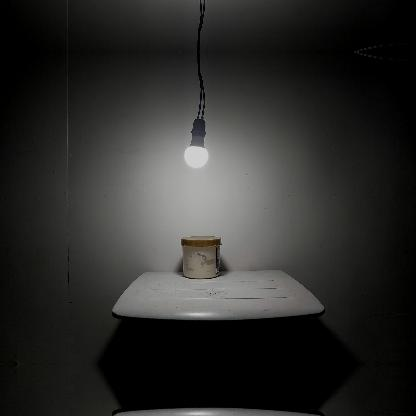Lady-s-Choice: (180, 235, 222, 280)
